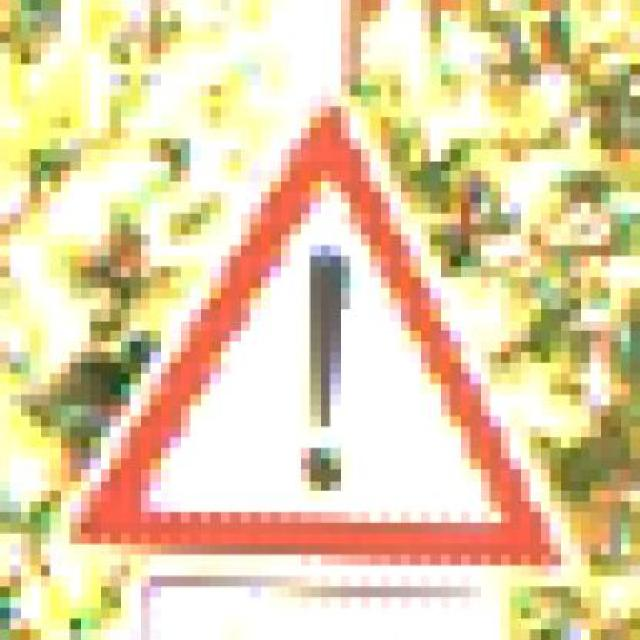Attention Please-: (29, 86, 580, 608)
